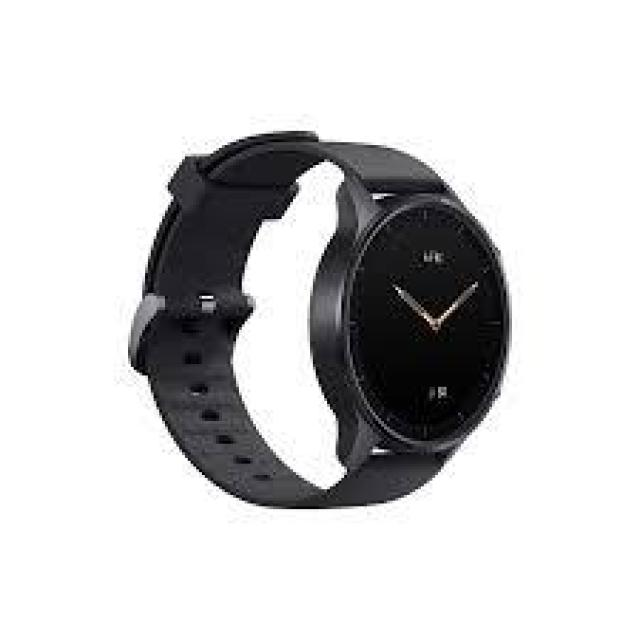watch: (148, 113, 517, 546)
